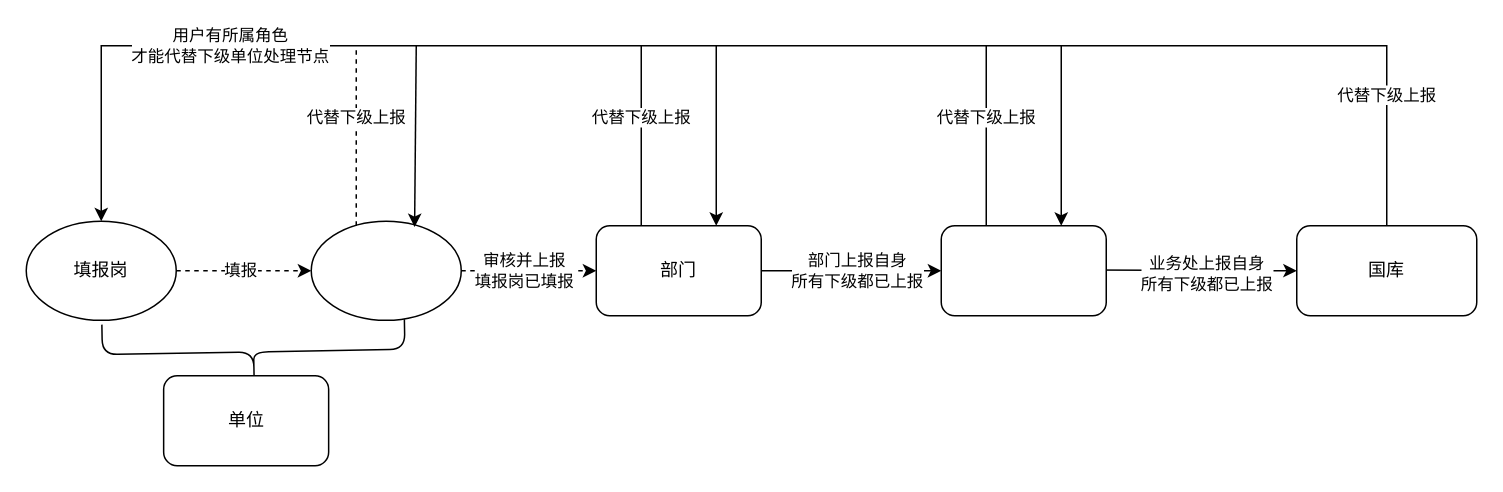
The diagram is 1503 pixels wide and 492 high, and some of its shapes have lost their labels. Here are the shapes that lost their labels. From the top down, the centre of each, then its label:
At pixel 385 270: "审核岗".
At pixel 1023 270: "业务处".
